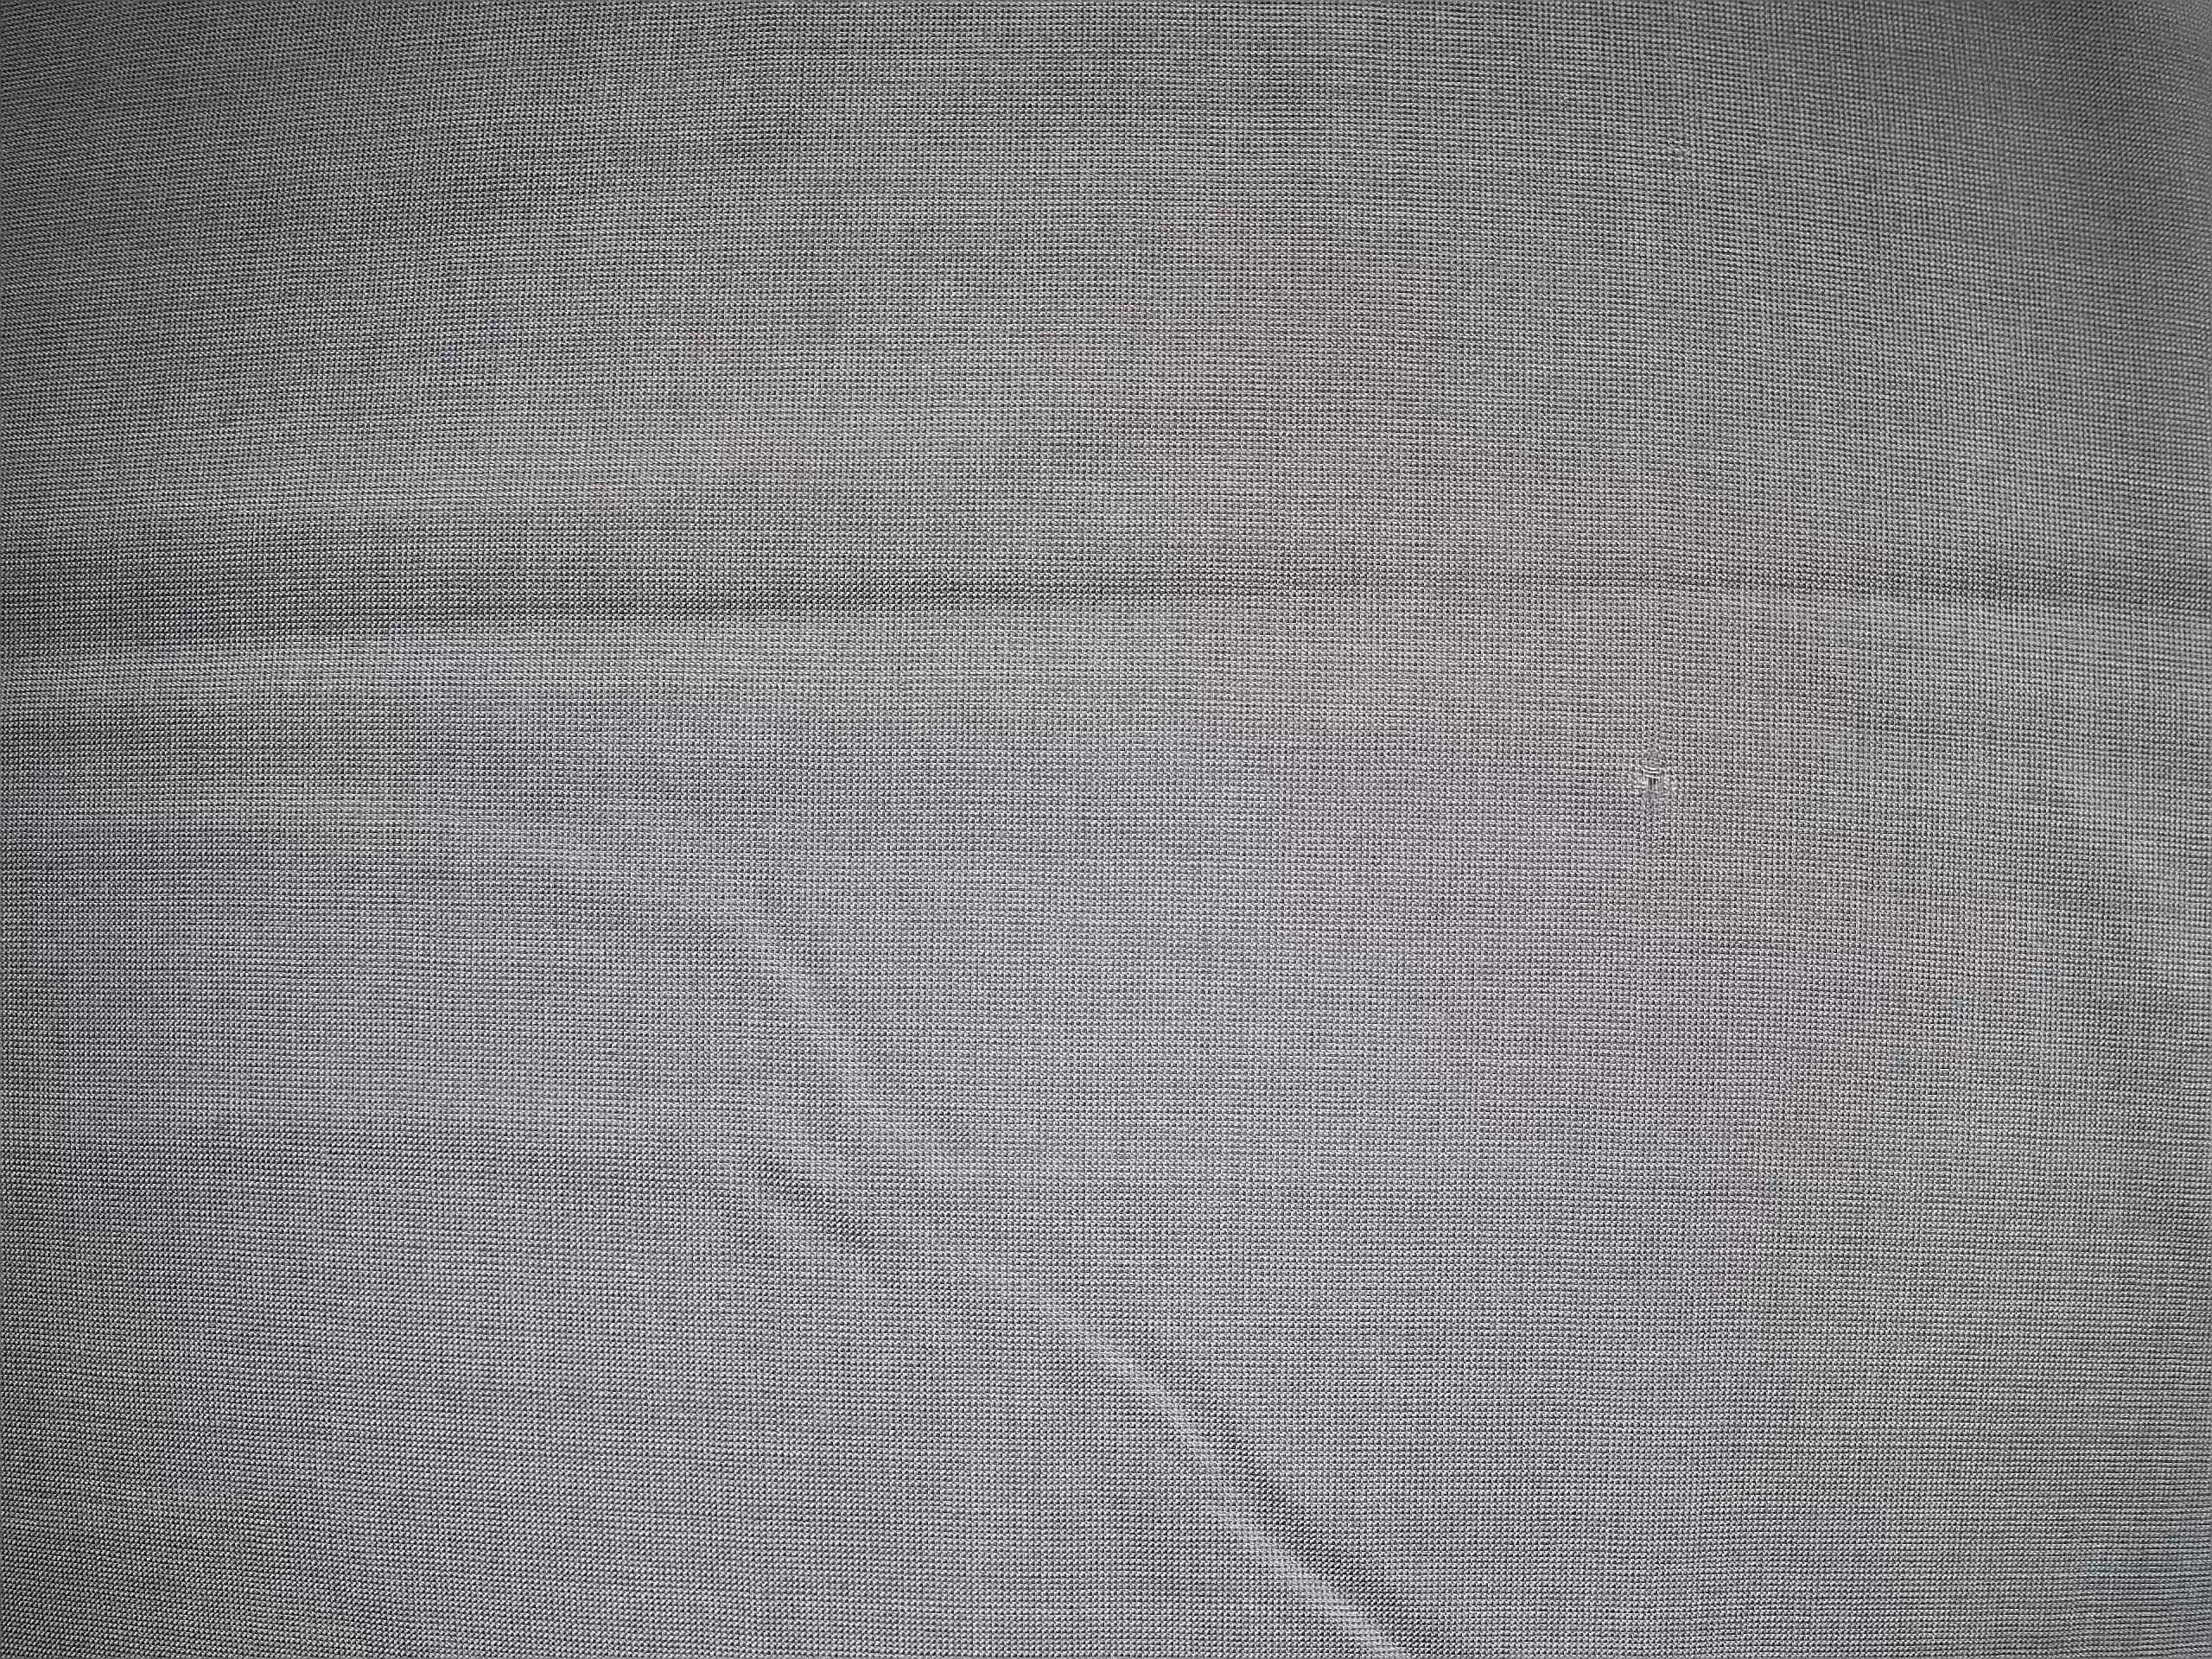rubbing-hole: (1627, 753, 1686, 810)
